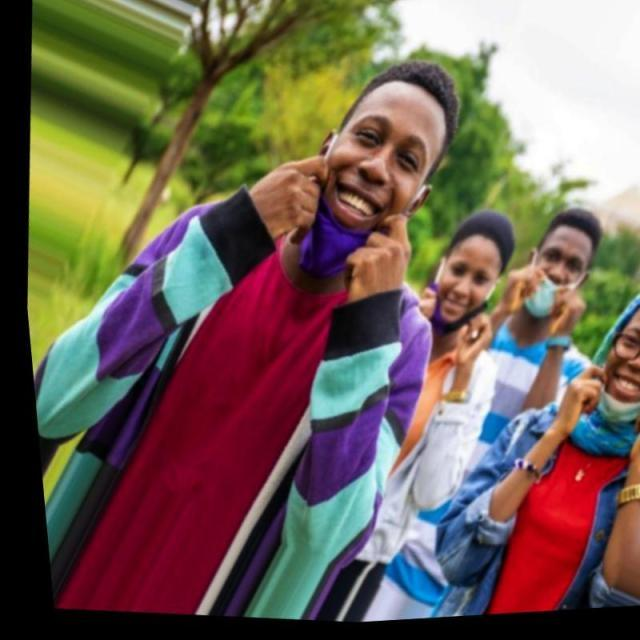hairnet: (278, 105, 437, 296), (579, 324, 639, 436), (514, 247, 584, 331), (422, 258, 492, 341)
